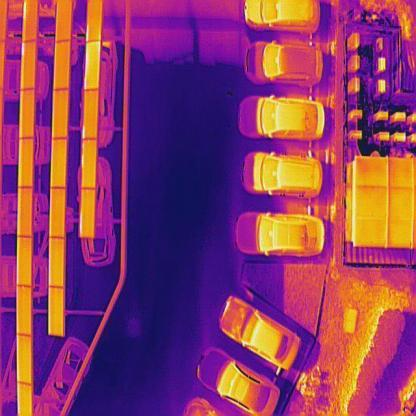Diode: (83, 42, 102, 91), (82, 89, 98, 142), (21, 40, 37, 92), (78, 188, 94, 239), (82, 140, 98, 190), (22, 0, 38, 42), (86, 0, 101, 41)
Normal: (19, 86, 36, 139), (52, 88, 69, 139), (51, 138, 67, 191), (49, 235, 65, 288), (18, 138, 34, 189), (50, 187, 66, 238), (53, 42, 70, 90), (16, 236, 32, 286), (17, 286, 32, 339), (48, 287, 63, 338), (18, 186, 32, 237), (18, 334, 31, 384), (55, 0, 70, 41)
